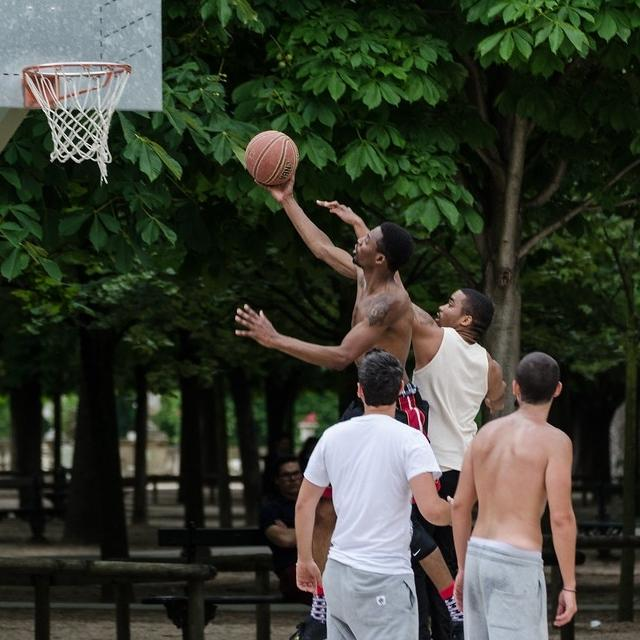basketball: (247, 129, 298, 188)
hoop: (24, 64, 132, 162)
